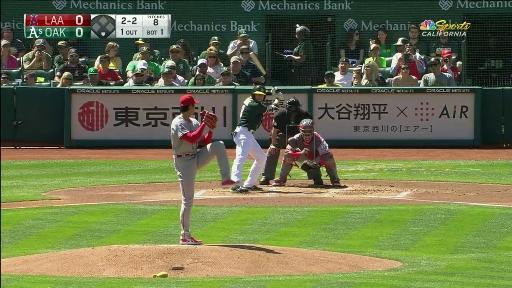pitcher: (172, 93, 239, 246)
